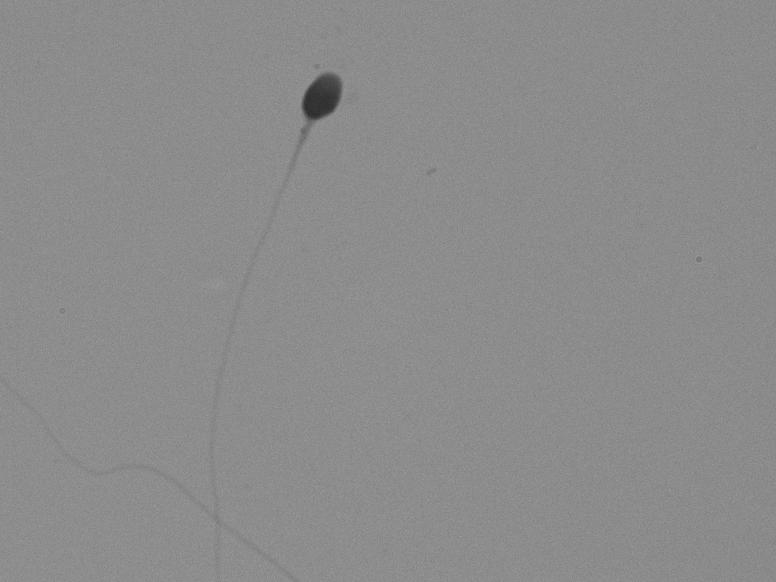Normal: (156, 39, 393, 555)
